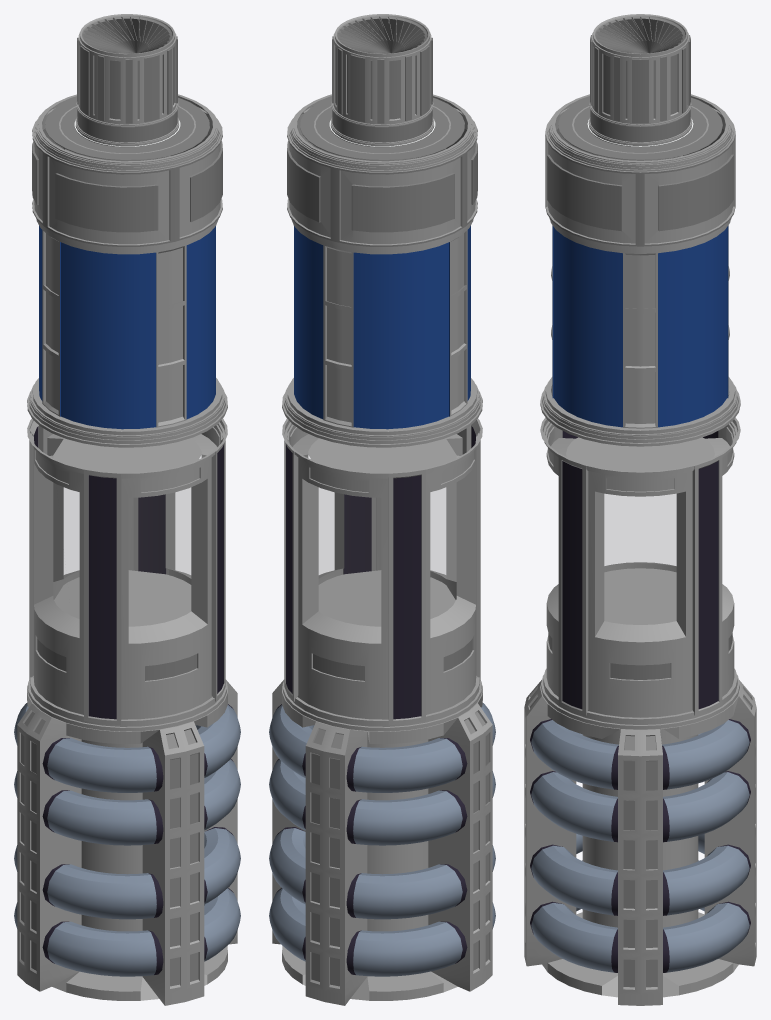
File: LaserInferior.fbx
The picture shows the model from 3 angles, left to right: view 1: azimuth 30°, elevation 25°; view 2: azimuth 150°, elevation 25°; view 3: azimuth 270°, elevation 25°; orthographic projection.
Visible parts, largest first — view 1: Cylinder, Cylinder.003; view 2: Cylinder, Cylinder.003; view 3: Cylinder, Cylinder.003.
Part boxes in pixels (x1=…): Cylinder: x1=14, y1=14, x2=240, y2=1005; Cylinder.003: x1=39, y1=225, x2=215, y2=429; Cylinder: x1=269, y1=14, x2=495, y2=1005; Cylinder.003: x1=294, y1=225, x2=470, y2=429; Cylinder: x1=524, y1=14, x2=756, y2=1005; Cylinder.003: x1=552, y1=226, x2=728, y2=427.
Size of the model in its own units: 248 by 1086 by 248.
